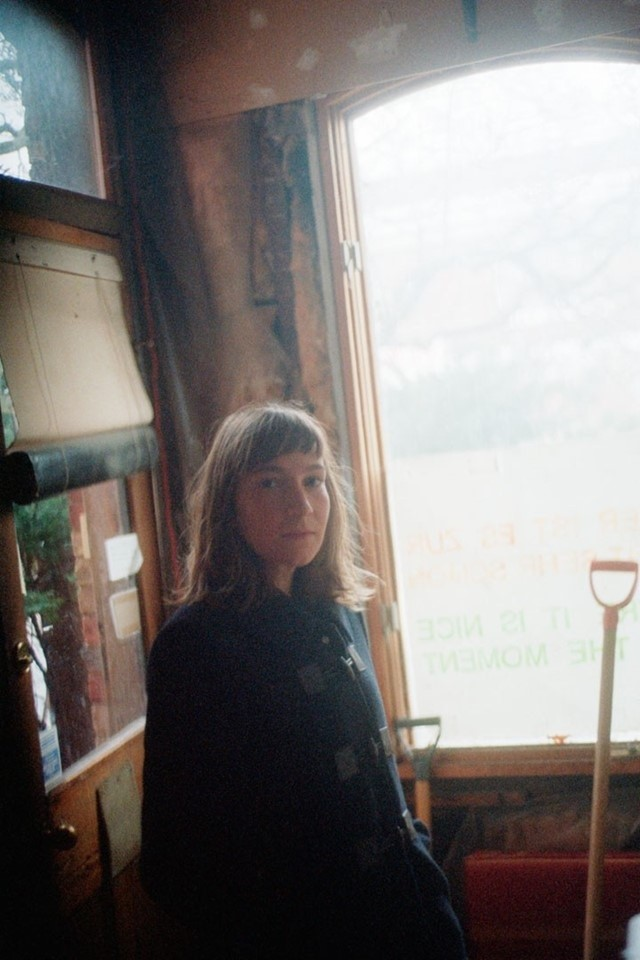face_no_mask: (211, 405, 331, 568)
